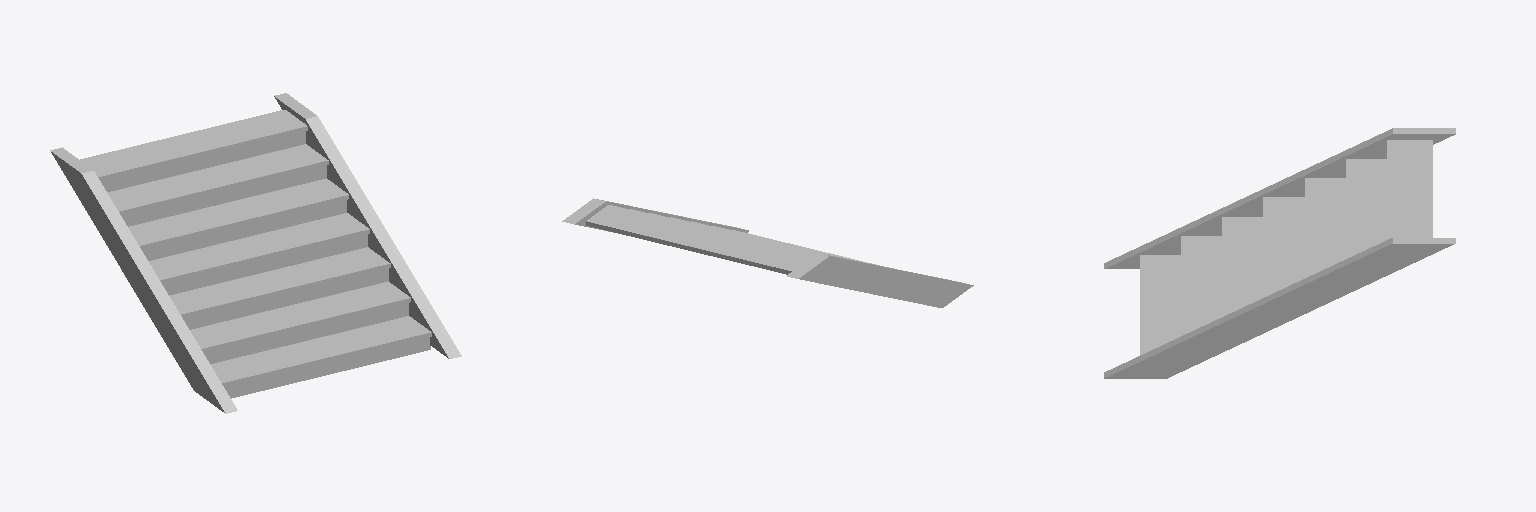
Rendered from stairs.obj.
The picture shows the model from 3 angles: view 1: azimuth 30°, elevation 25°; view 2: azimuth 150°, elevation 25°; view 3: azimuth 270°, elevation 25°; orthographic projection.
Parts seen in each view (by area): view 1: stairs_AH_meshId0_name; view 2: stairs_AH_meshId0_name; view 3: stairs_AH_meshId0_name.
Boxes of the visible parts, x1,y1,x2,y2 form: stairs_AH_meshId0_name: [50, 93, 461, 413]; stairs_AH_meshId0_name: [562, 198, 973, 307]; stairs_AH_meshId0_name: [1104, 128, 1455, 378].
Bounding box in the file's own units: 1.55 × 0.8786 × 2.